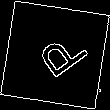P_SW: (23, 25, 87, 85)
